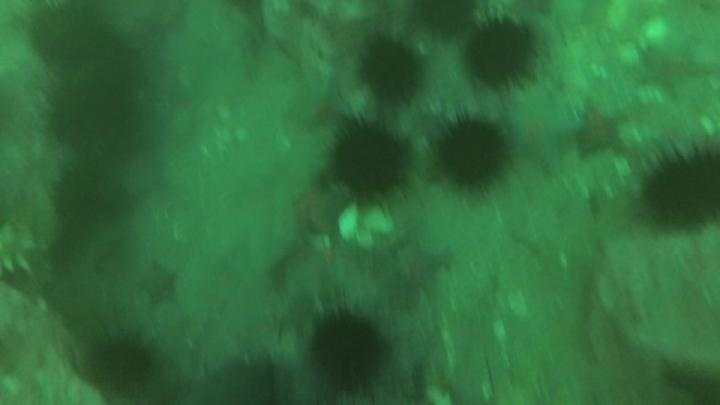echinus: (639, 143, 719, 233), (308, 308, 389, 395), (47, 80, 137, 154), (329, 125, 410, 199), (27, 4, 115, 70), (434, 118, 510, 190), (463, 17, 538, 89), (190, 356, 291, 405), (83, 331, 157, 396), (50, 163, 125, 227), (356, 36, 424, 104), (659, 358, 719, 404), (412, 1, 480, 39)
holothurian: (1, 219, 40, 285)
starfish: (501, 95, 583, 173), (635, 39, 709, 99), (290, 179, 352, 238), (296, 76, 354, 131), (390, 238, 450, 291), (570, 103, 625, 159), (135, 261, 181, 307)
